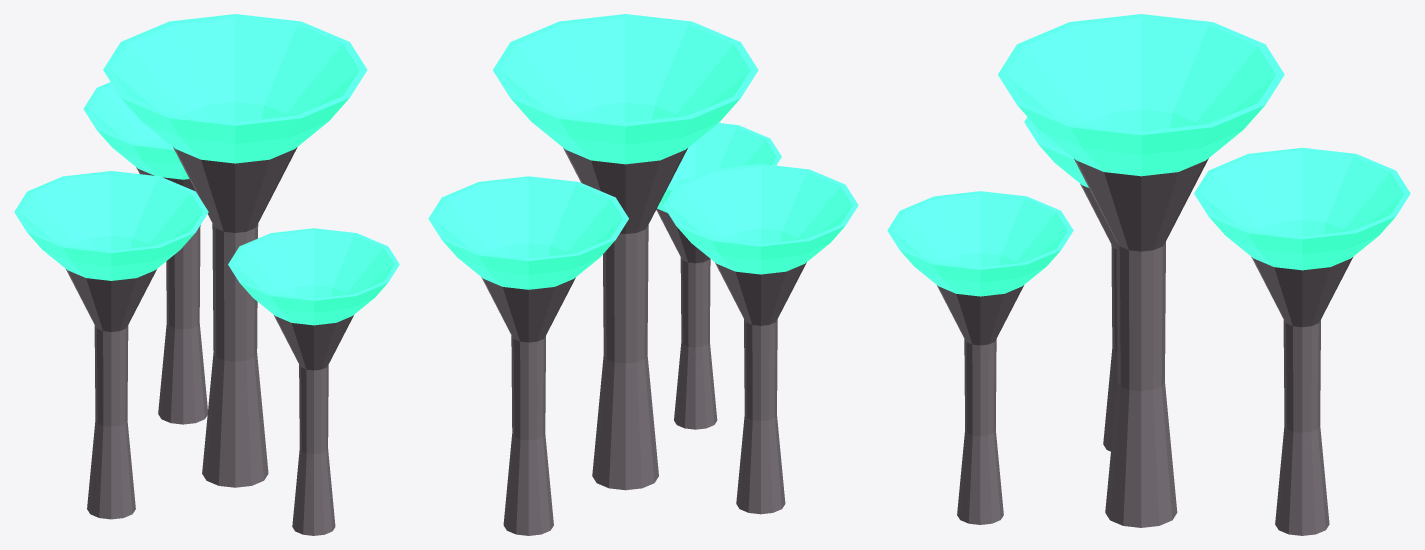
Rendered from trumpet_v03.glb.
3 renders of one model, left to right at view 1: azimuth 30°, elevation 25°; view 2: azimuth 150°, elevation 25°; view 3: azimuth 270°, elevation 25°, orthographic. The views are drawn at different scales.
Parts seen in each view (by area): view 1: mushroom_trumpet_glow_nocol, mushroom_trumpet_flesh_nocol; view 2: mushroom_trumpet_glow_nocol, mushroom_trumpet_flesh_nocol; view 3: mushroom_trumpet_glow_nocol, mushroom_trumpet_flesh_nocol.
Part boxes in pixels (left/top/right/bottom): mushroom_trumpet_glow_nocol: left=14, top=14, right=399, bottom=325; mushroom_trumpet_flesh_nocol: left=66, top=147, right=353, bottom=535; mushroom_trumpet_glow_nocol: left=428, top=14, right=858, bottom=289; mushroom_trumpet_flesh_nocol: left=481, top=148, right=806, bottom=535; mushroom_trumpet_glow_nocol: left=887, top=14, right=1410, bottom=296; mushroom_trumpet_flesh_nocol: left=937, top=158, right=1352, bottom=535.
Size of the model in its own units: 1.52 by 1.79 by 1.94.
